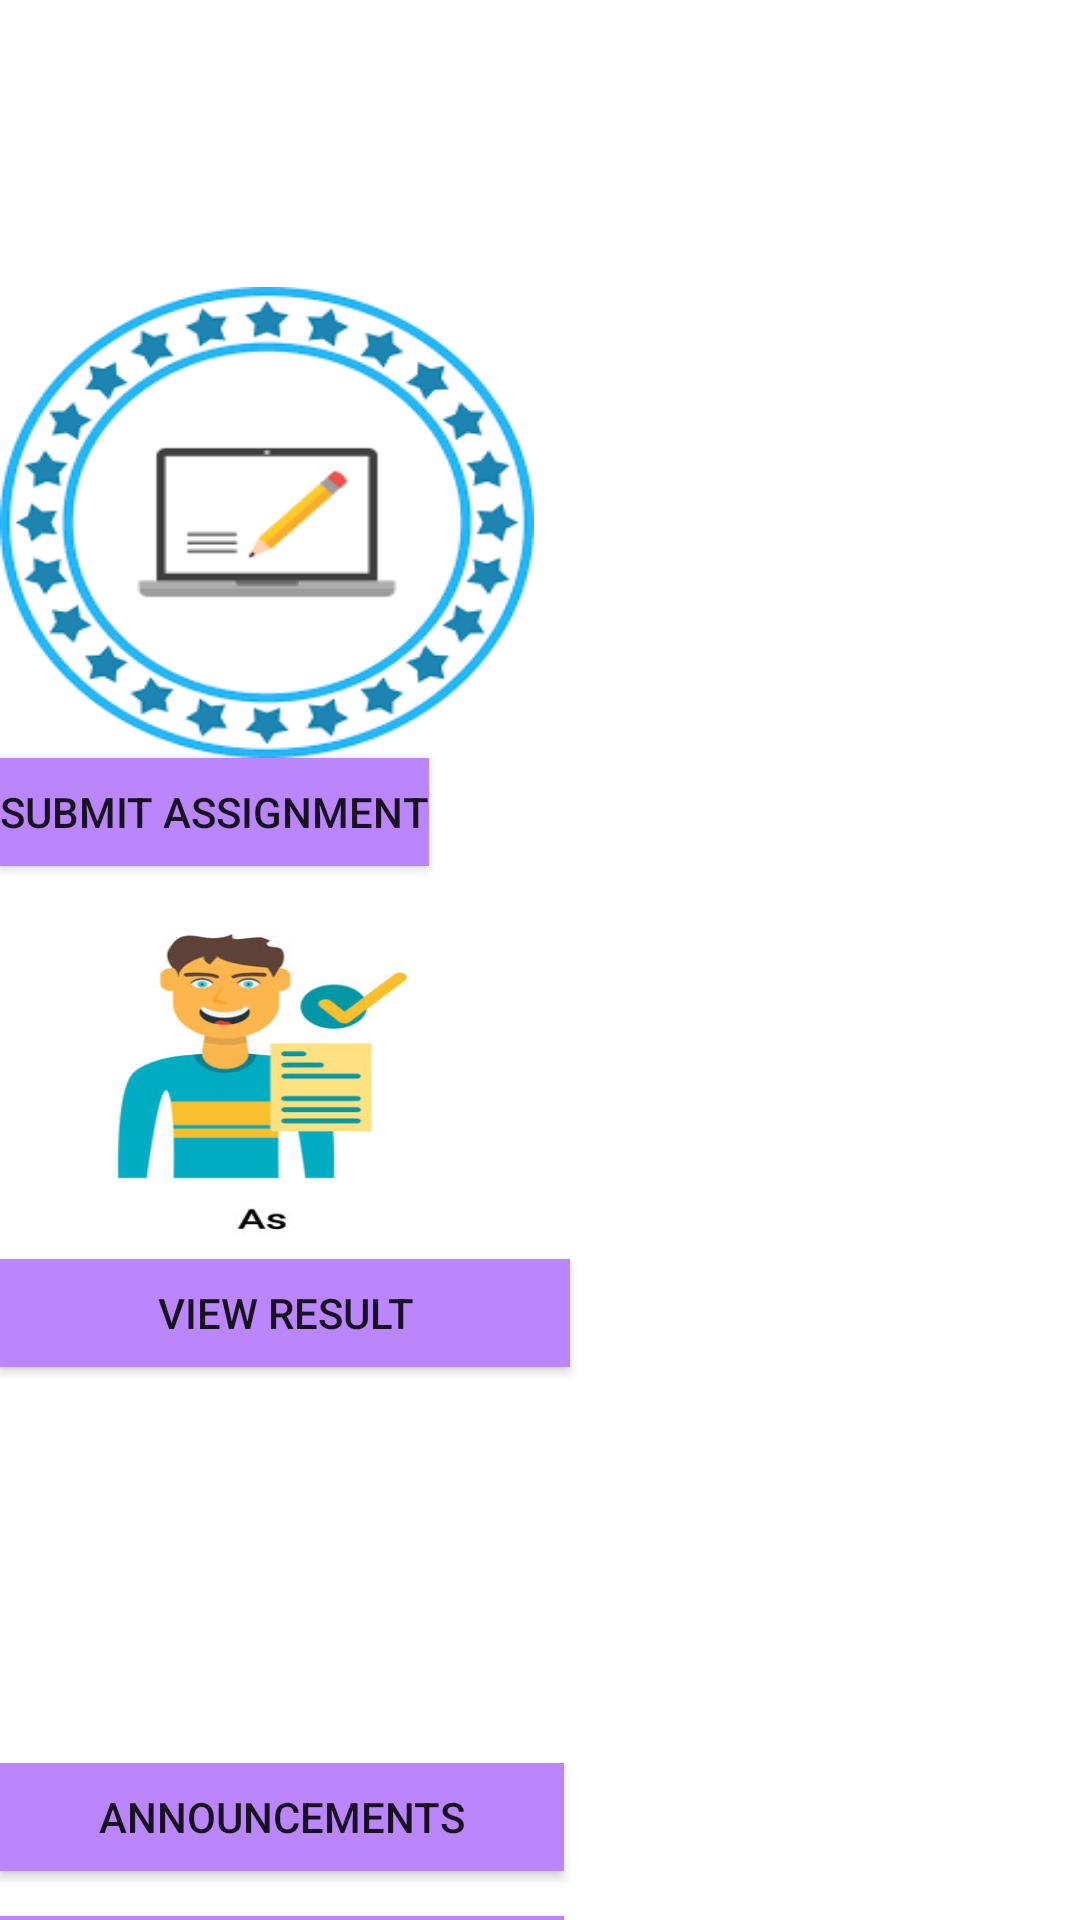

Icons on this 1080x1920 Android screen, each with its box as (x1, y1, x2, y2):
results: (117, 934, 408, 1230)
